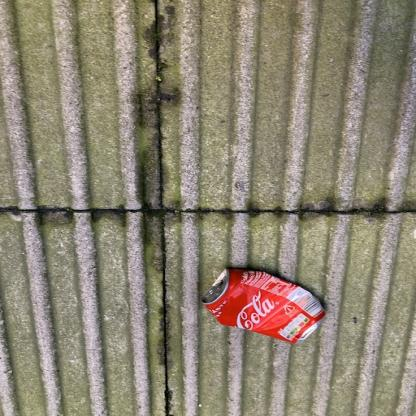trash: (198, 267, 336, 348)
